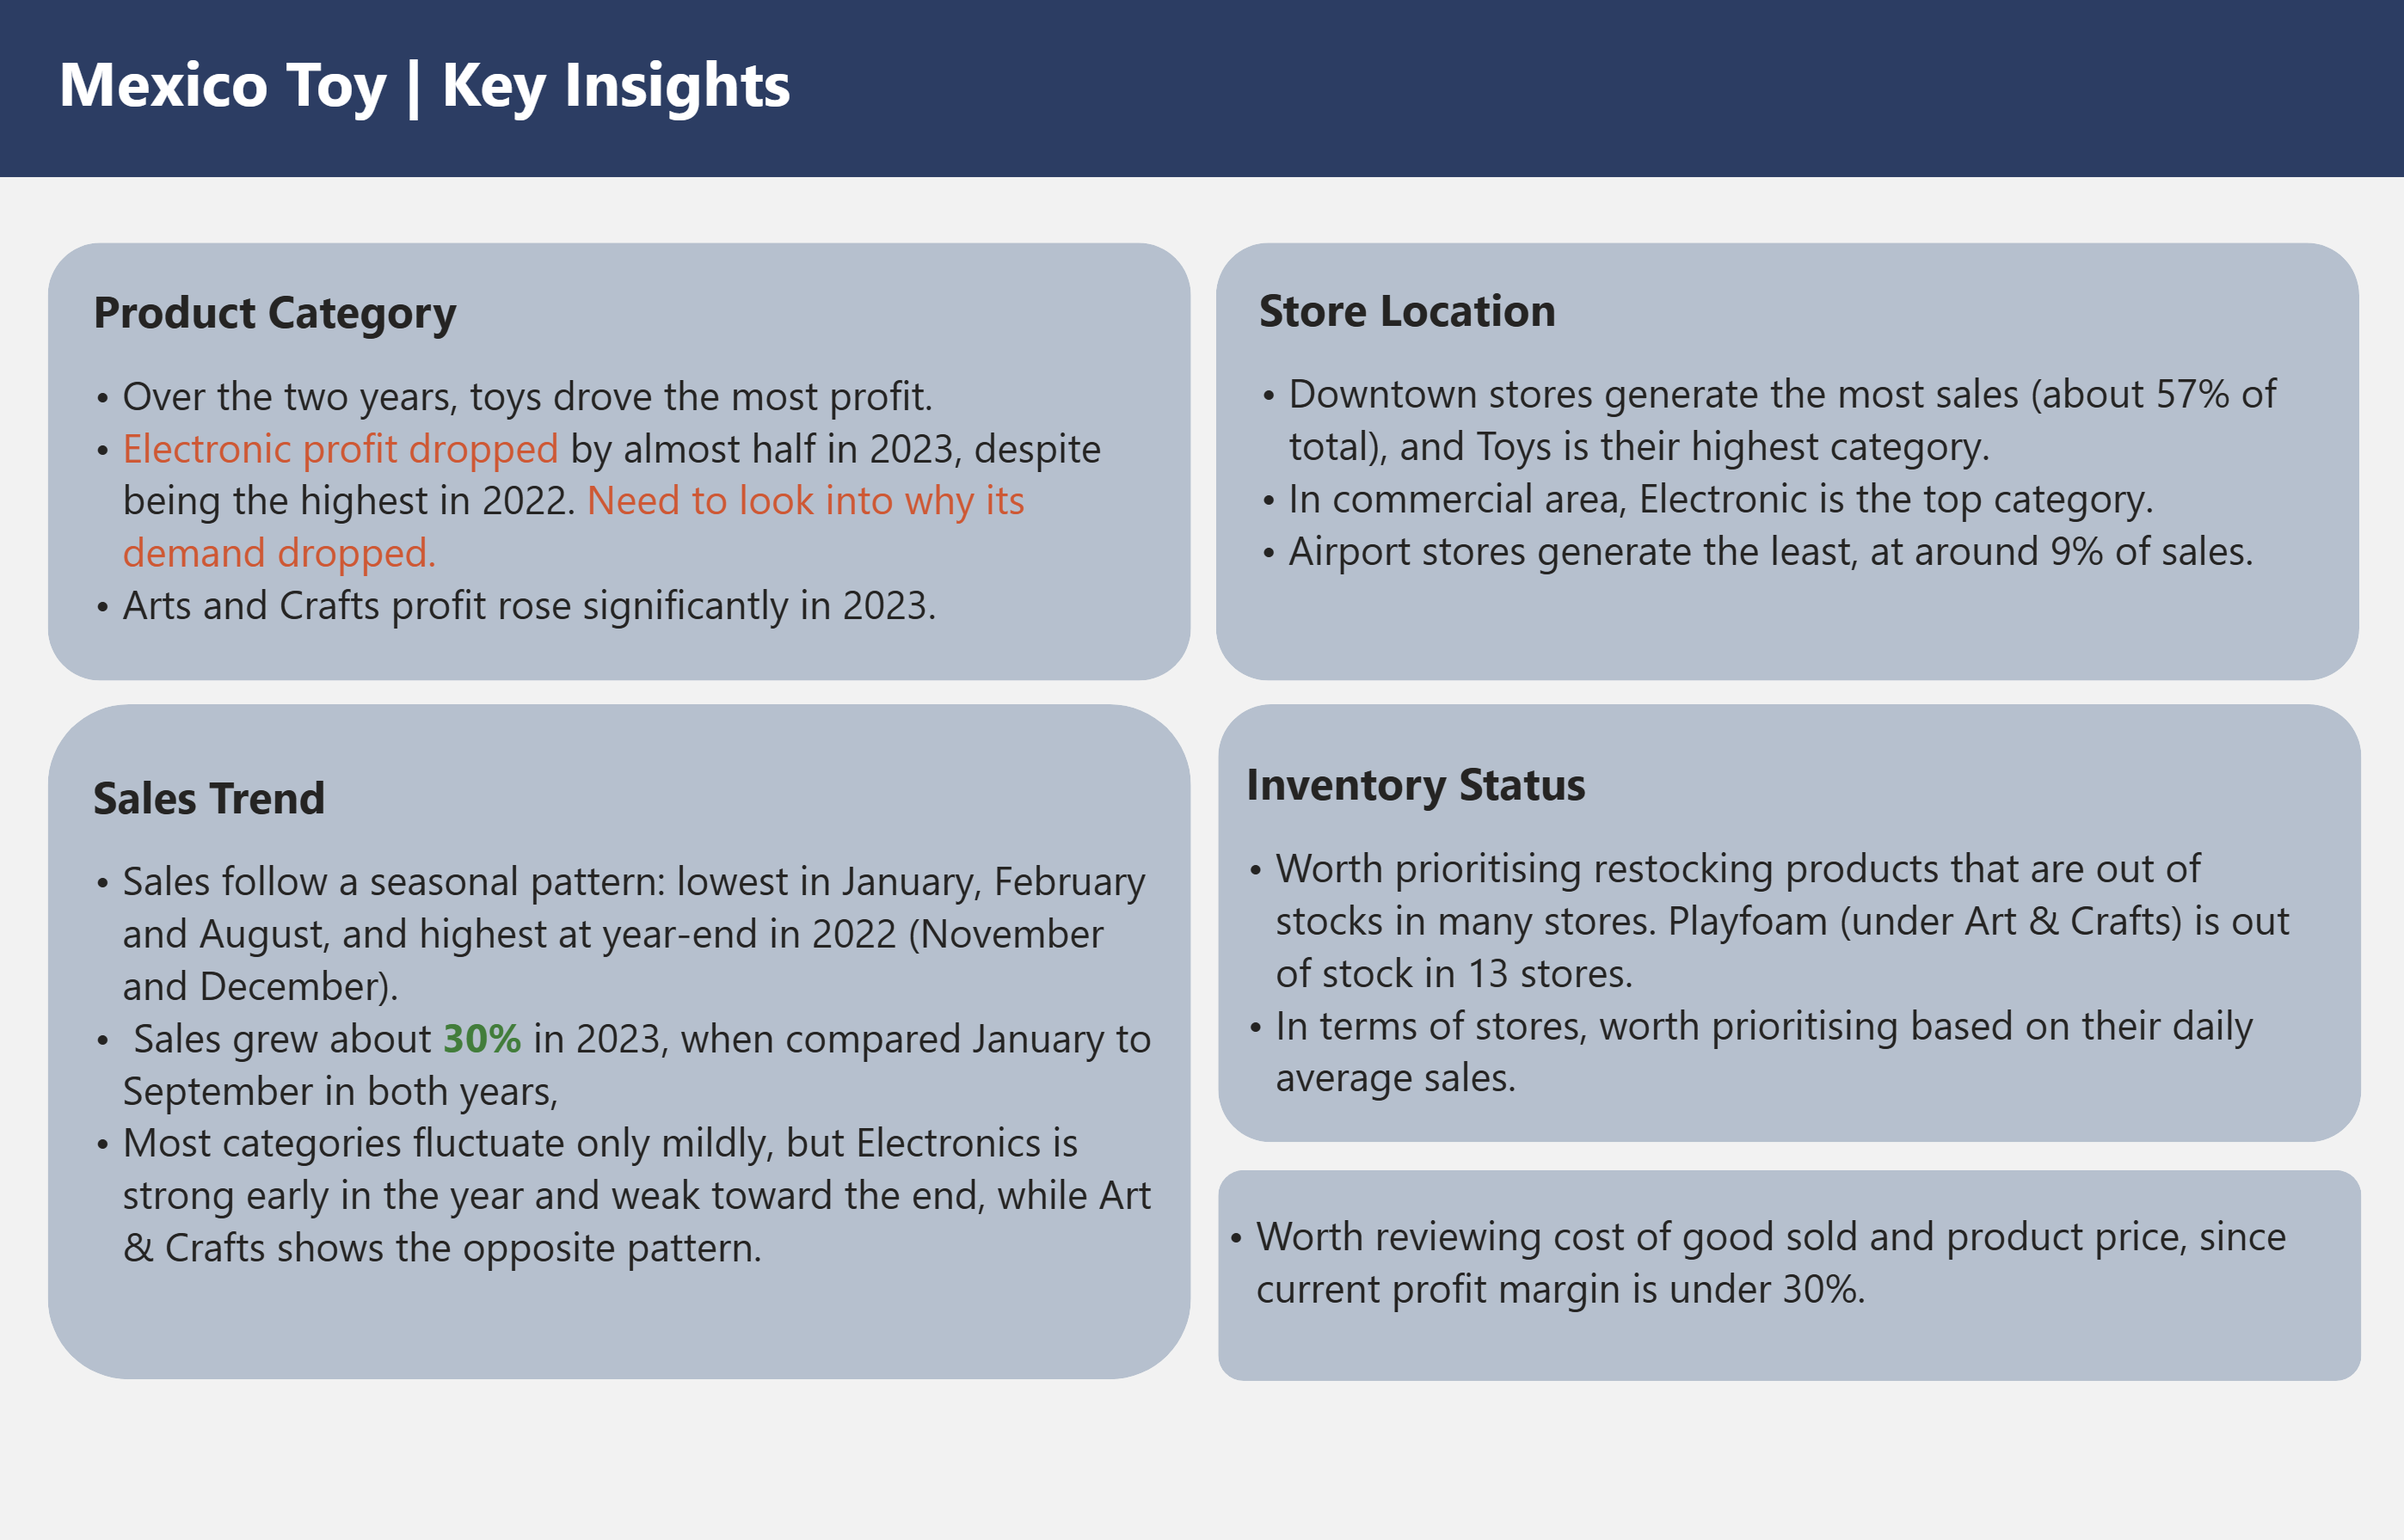

This screenshot's page, from the dashboard's own definition file:
{"tool":"powerbi","page":{"name":"Key_Insights","canvas":[1464,950],"ordinal":2},"visuals":[{"type":"shape","box":[32,428,694,410],"z":0},{"type":"textbox","title":"Sales Overview","box":[0,0,1465,107.5],"z":1000},{"type":"textbox","box":[32.3,18,570.9,79],"z":2000},{"type":"shape","box":[32,148,694,266],"z":3000},{"type":"textbox","box":[54,442,654,384],"z":4000},{"type":"shape","box":[740.7,146.7,694,266],"z":5000},{"type":"textbox","box":[762,146,654,256],"z":6000},{"type":"textbox","box":[54,148,654,256],"z":7000},{"type":"shape","box":[742,428,694,266],"z":8000},{"type":"shape","box":[742,710,694,128],"z":8001},{"type":"textbox","box":[742,694,674,132],"z":8002},{"type":"textbox","box":[754,434,654,256],"z":8003}]}

Visuals, with their boxes in screenshot pixels (x1, y1, x2, y2), scaled from the page's 1464x950 canvas onto the 2404x1540 screenshot:
shape: {"x1": 52, "y1": 694, "x2": 1192, "y2": 1359}
"Sales Overview" textbox: {"x1": 0, "y1": 0, "x2": 2403, "y2": 175}
textbox: {"x1": 53, "y1": 29, "x2": 991, "y2": 157}
shape: {"x1": 52, "y1": 240, "x2": 1192, "y2": 671}
textbox: {"x1": 89, "y1": 716, "x2": 1163, "y2": 1339}
shape: {"x1": 1216, "y1": 238, "x2": 2356, "y2": 669}
textbox: {"x1": 1251, "y1": 236, "x2": 2325, "y2": 652}
textbox: {"x1": 89, "y1": 240, "x2": 1163, "y2": 655}
shape: {"x1": 1219, "y1": 694, "x2": 2358, "y2": 1125}
shape: {"x1": 1219, "y1": 1151, "x2": 2358, "y2": 1359}
textbox: {"x1": 1219, "y1": 1125, "x2": 2325, "y2": 1339}
textbox: {"x1": 1239, "y1": 703, "x2": 2312, "y2": 1119}
